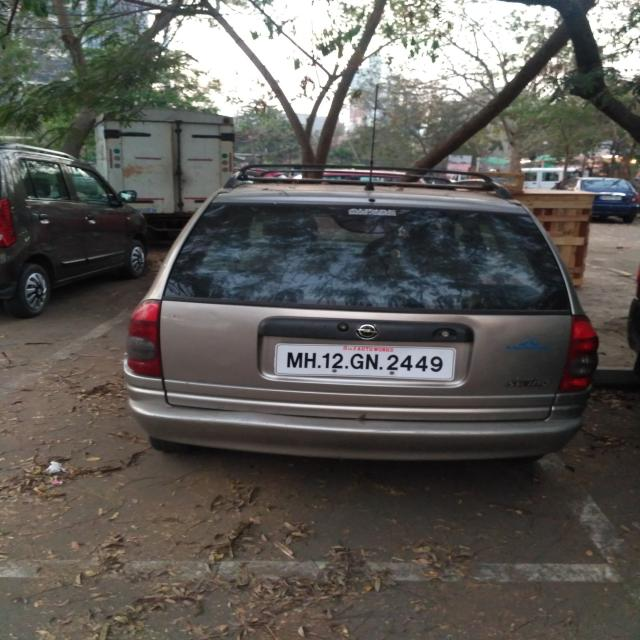Number-Plate: (277, 345, 454, 381)
